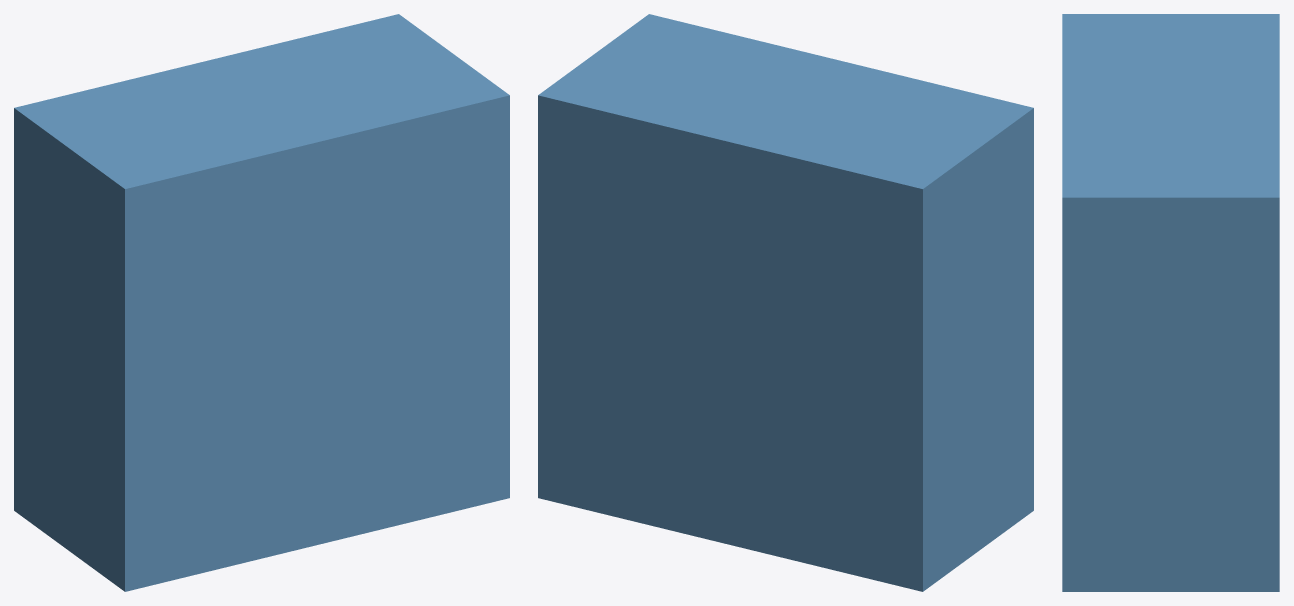
File: Water_VerticalSlab.glb
3 renders of one model, left to right at view 1: azimuth 30°, elevation 25°; view 2: azimuth 150°, elevation 25°; view 3: azimuth 270°, elevation 25°, orthographic. The views are drawn at different scales.
Visible parts, largest first — view 1: Water_VerticalSlab_body; view 2: Water_VerticalSlab_body; view 3: Water_VerticalSlab_body.
Part boxes in pixels (bbox=[...]): Water_VerticalSlab_body: bbox=[14, 14, 509, 591]; Water_VerticalSlab_body: bbox=[538, 14, 1033, 591]; Water_VerticalSlab_body: bbox=[1062, 14, 1279, 591].
Bounding box in the file's own units: 1 × 1 × 0.5.
